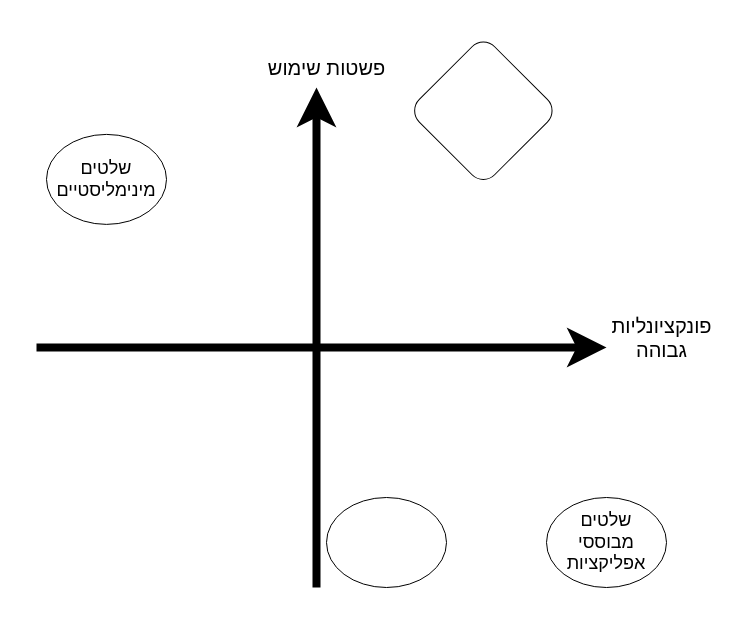
This 738x624 diagram has some shape labels left out. The centre of each missing label's shape, as x and y in pixels:
"SabaBox" goes at pixel 483 110.
"שלטים אוניברסליים" goes at pixel 386 542.
